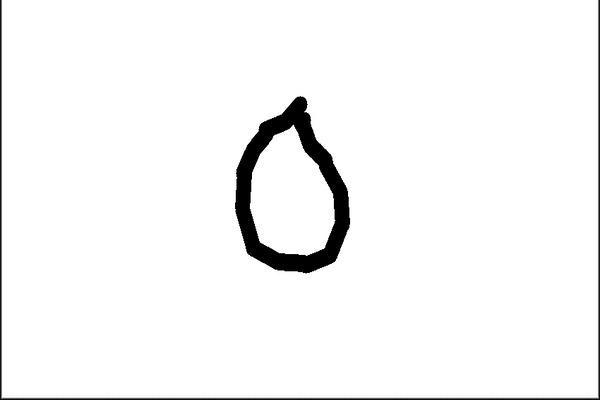O: (212, 82, 361, 292)
